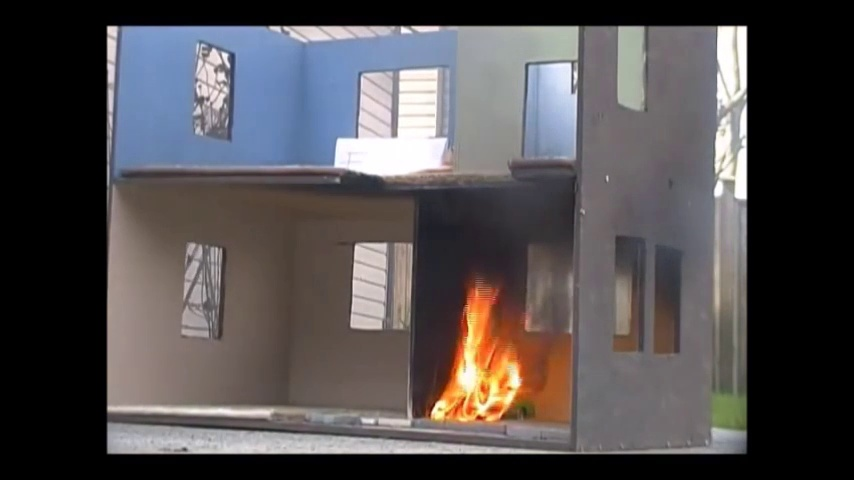fire: (435, 288, 517, 423)
